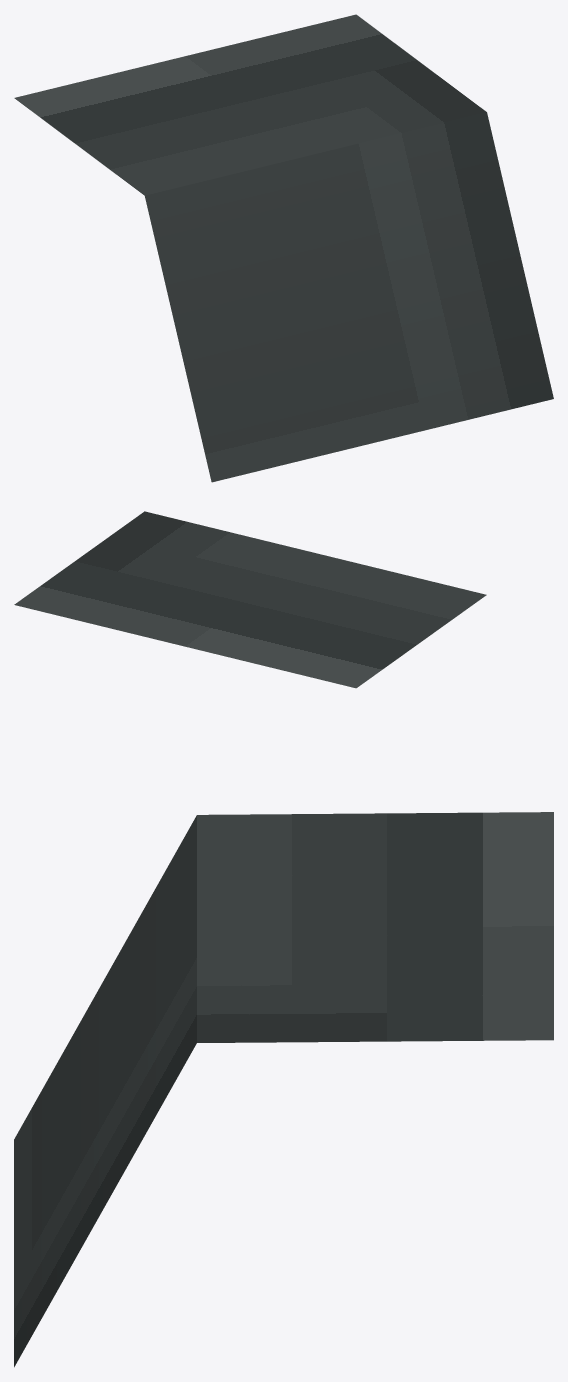
The picture shows the model from 3 angles, top to bottom: view 1: azimuth 30°, elevation 25°; view 2: azimuth 150°, elevation 25°; view 3: azimuth 270°, elevation 25°; orthographic projection. The views are drawn at different scales.
Size of the model in its own units: 0.5 by 0.3348 by 0.5.
1 material, 1 textured.
